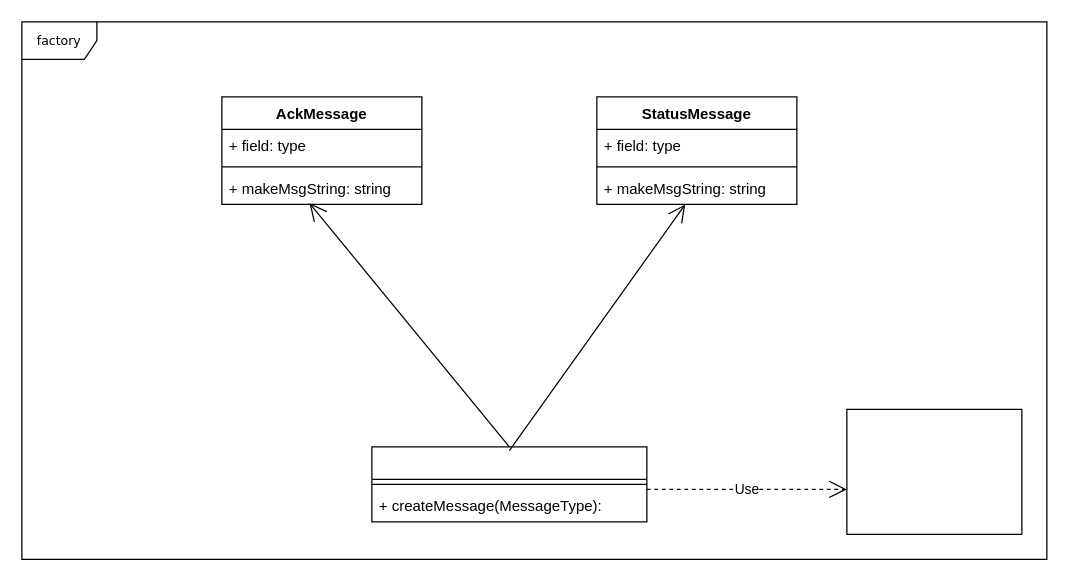
This 1069x581 diagram has some shape labels left out. Each missing label, with the box of its shape:
Message Type AckMessage StatusMessage: (846, 408, 1022, 534)
MessageFactory: (371, 446, 647, 522)
